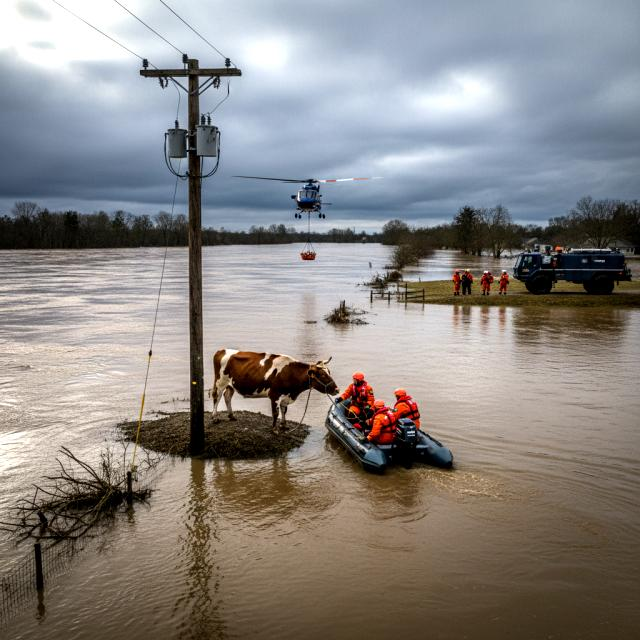cow: (206, 338, 348, 432)
rescuer: (341, 364, 376, 424), (366, 397, 397, 448), (392, 382, 421, 433), (496, 264, 512, 301), (459, 266, 476, 299), (478, 266, 494, 297), (449, 269, 463, 300)
